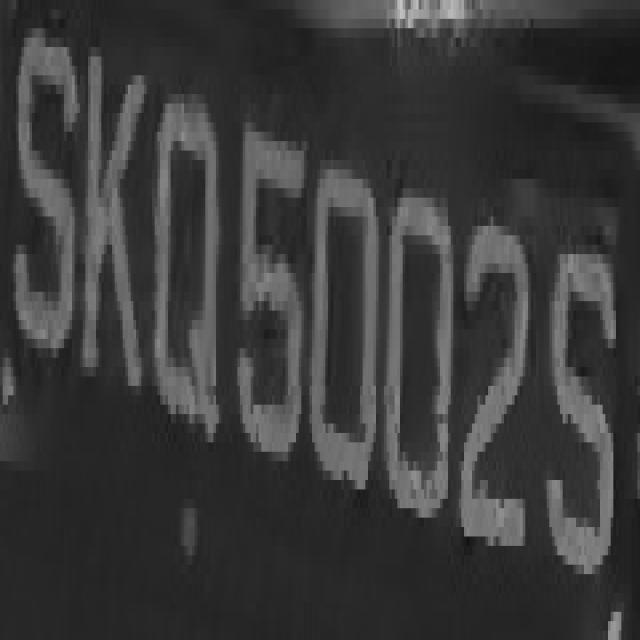0: (381, 150, 459, 564), (307, 150, 384, 518)
2: (464, 170, 536, 584)
5: (232, 94, 304, 480)
K: (77, 10, 142, 414)
Q: (144, 66, 221, 470)
S: (549, 198, 616, 612), (19, 28, 80, 367)
